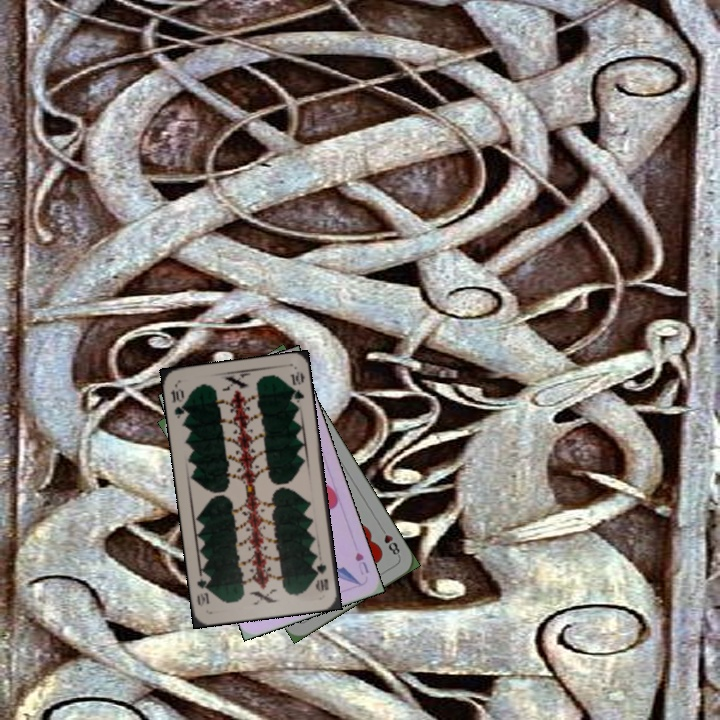G10: (166, 383, 189, 421), (311, 559, 331, 595)
H8: (376, 523, 403, 560)
HU: (351, 548, 371, 578)
